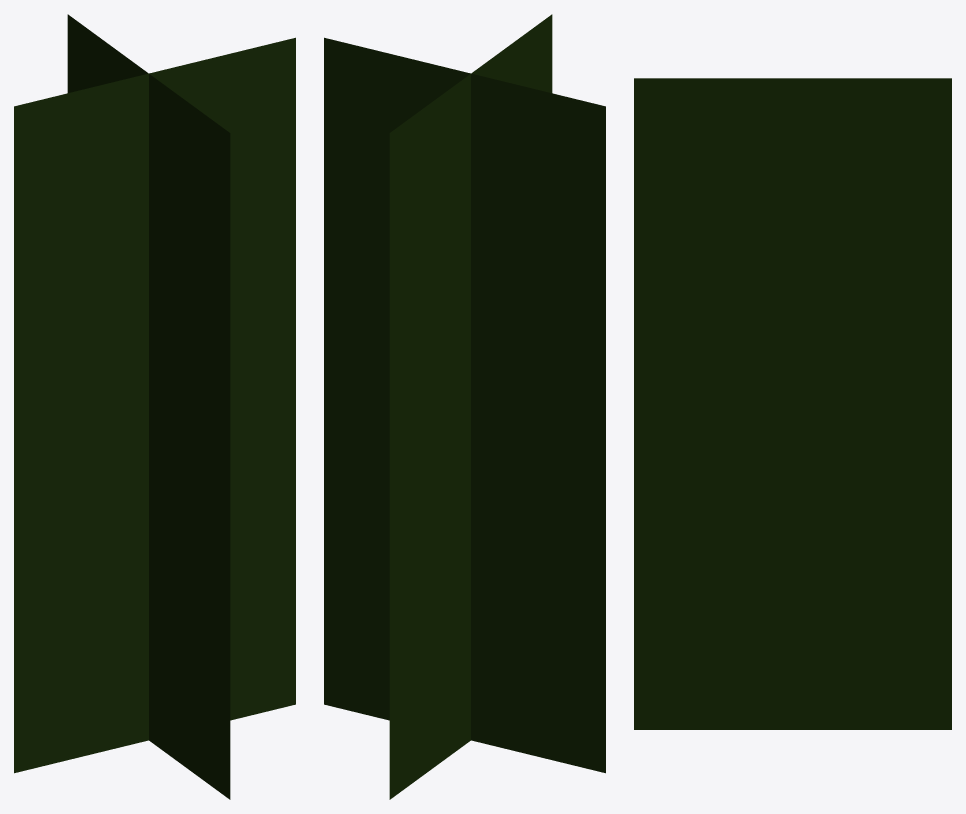
Rendered from RT PlantMOB V08 DS.FBX.
3 views of the same model, side by side, from view 1: azimuth 30°, elevation 25°; view 2: azimuth 150°, elevation 25°; view 3: azimuth 270°, elevation 25° (orthographic). The views are drawn at different scales.
Visible parts, largest first — view 1: RT PlantMOB V08 DS; view 2: RT PlantMOB V08 DS; view 3: RT PlantMOB V08 DS.
Boxes of the visible parts, left/top/right/bottom form: RT PlantMOB V08 DS: left=14, top=14, right=295, bottom=799; RT PlantMOB V08 DS: left=324, top=14, right=605, bottom=799; RT PlantMOB V08 DS: left=634, top=78, right=951, bottom=729.
Bounding box in the file's own units: 0.9247 × 2.09 × 0.9247.
